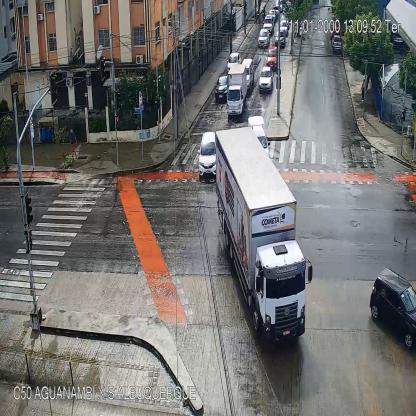car: (369, 267, 415, 353), (198, 130, 217, 181), (242, 58, 255, 90), (259, 66, 274, 93), (216, 76, 228, 100), (266, 44, 278, 68), (257, 28, 270, 47), (227, 51, 242, 67), (275, 30, 285, 48), (262, 15, 274, 30), (332, 35, 341, 55), (278, 21, 288, 35)
person: (70, 128, 77, 163), (361, 78, 365, 102)
truck: (215, 126, 312, 344), (227, 66, 246, 115)
